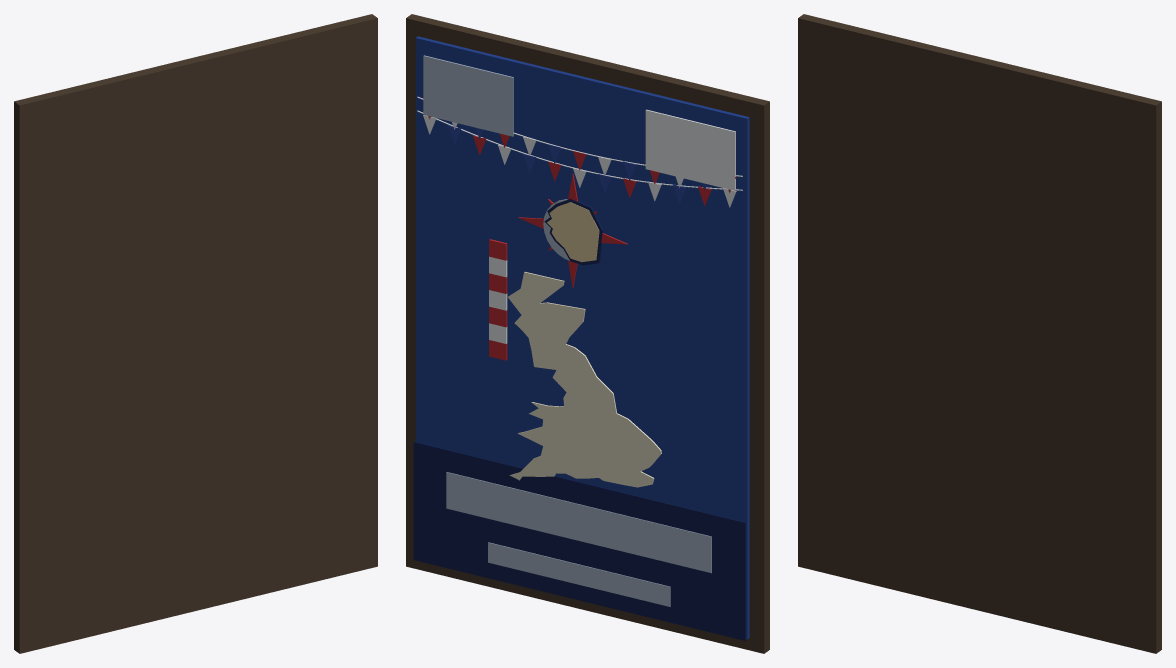
Rendered from scan-fig74-festival-of-britain-poster-muse.glb.
3 renders of one model, left to right at view 1: azimuth 30°, elevation 25°; view 2: azimuth 150°, elevation 25°; view 3: azimuth 330°, elevation 25°, orthographic.
Parts seen in each view (by area): view 1: MountBoard; view 2: PosterSheet, MountBoard, BottomBand, BritainMap, TitleStripBlank, YearBlockLeft, YearBlockRight, DateStripBlank, BritanniaHead, BritanniaHeadRim; view 3: MountBoard.
Boxes of the visible parts, x1,y1,x2,y2 form: MountBoard: (14,14,377,653); PosterSheet: (415,36,749,639); MountBoard: (406,14,769,653); BottomBand: (413,441,745,640); BritainMap: (508,272,661,487); TitleStripBlank: (446,472,711,573); YearBlockLeft: (423,55,513,136); YearBlockRight: (645,109,735,190); DateStripBlank: (488,542,670,606); BritanniaHead: (547,202,599,262); BritanniaHeadRim: (544,199,603,265); MountBoard: (798,14,1161,653).
Bounding box in the file's own units: 1.08 × 1.58 × 0.063.
